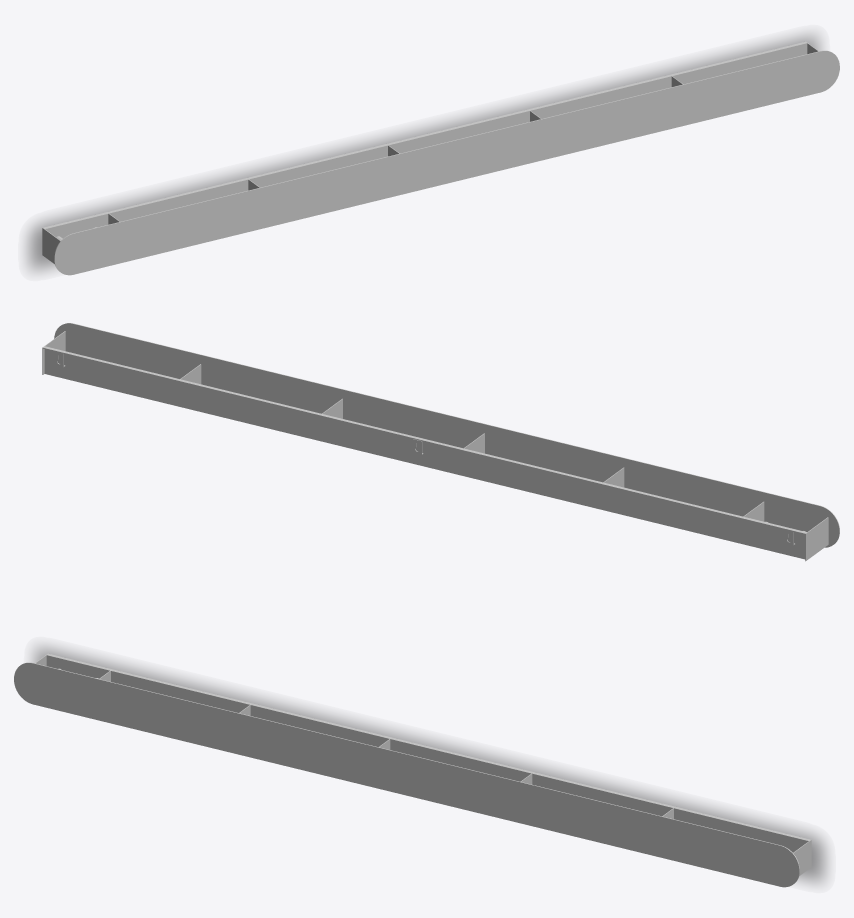
The model's file is round-patron.f77ac31189.ar.glb.
3 views of the same model, one above another, from view 1: azimuth 30°, elevation 25°; view 2: azimuth 150°, elevation 25°; view 3: azimuth 330°, elevation 25° (orthographic).
Visible parts, largest first — view 1: NAUO1, object 2; view 2: NAUO1; view 3: NAUO1, object 2.
Boxes of the visible parts, x1=… form: NAUO1: x1=42, y1=41, x2=839, y2=275; object 2: x1=26, y1=34, x2=821, y2=271; NAUO1: x1=42, y1=323, x2=839, y2=561; NAUO1: x1=14, y1=653, x2=811, y2=887; object 2: x1=32, y1=646, x2=827, y2=883.
Size of the model in its own units: 1.88 by 0.17 by 0.0929.
2 materials, 1 textured.
